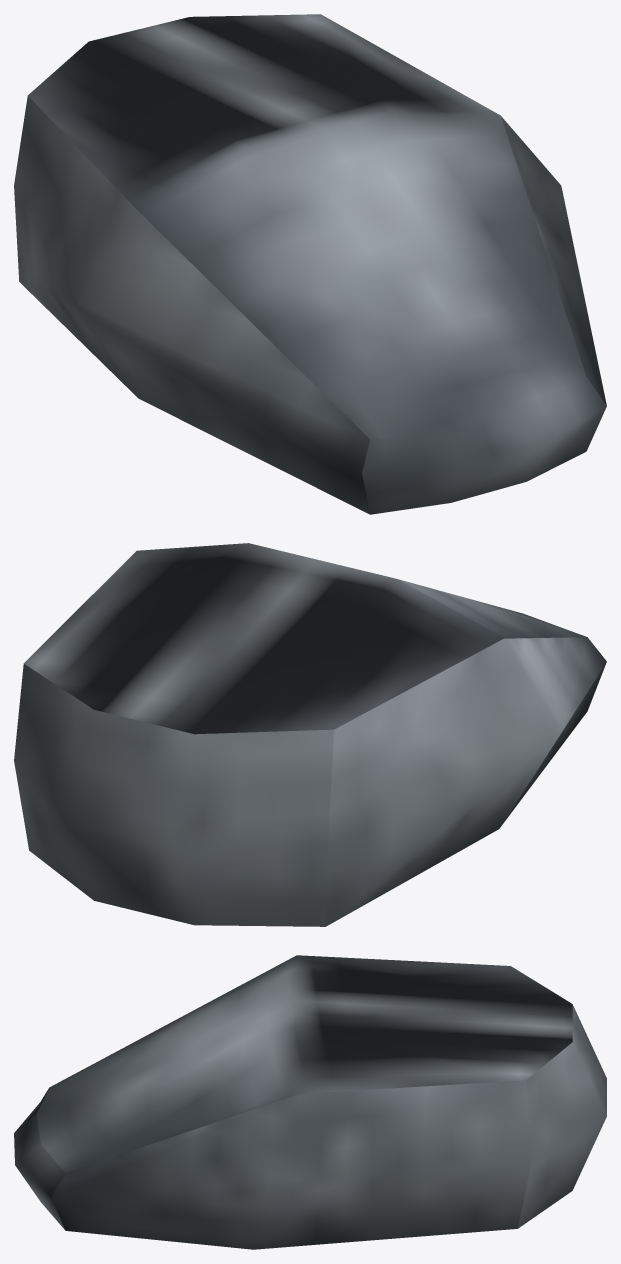
Rendered from mouse.FBX.
3 renders of one model, top to bottom at view 1: azimuth 30°, elevation 25°; view 2: azimuth 150°, elevation 25°; view 3: azimuth 270°, elevation 25°, orthographic. The views are drawn at different scales.
Visible parts, largest first — view 1: mouse; view 2: mouse; view 3: mouse.
Boxes of the visible parts, <box> form: mouse: <box>14,14,606,514</box>; mouse: <box>14,543,606,926</box>; mouse: <box>14,955,606,1249</box>.
Size of the model in its own units: 5.37 by 2.59 by 7.39.
1 material, 1 textured.
